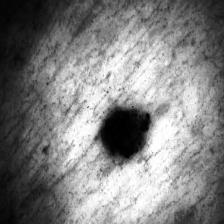Benign Marking or Mole: (101, 110, 153, 160)
